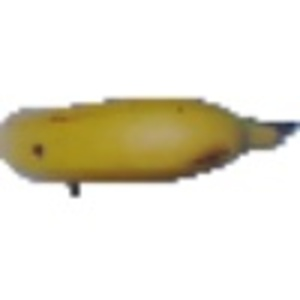banana: (1, 89, 285, 186)
